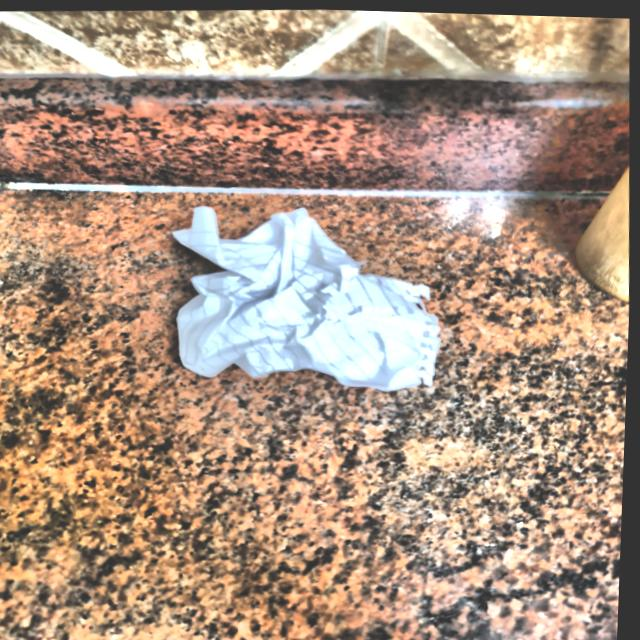Paper: (171, 188, 470, 397)
